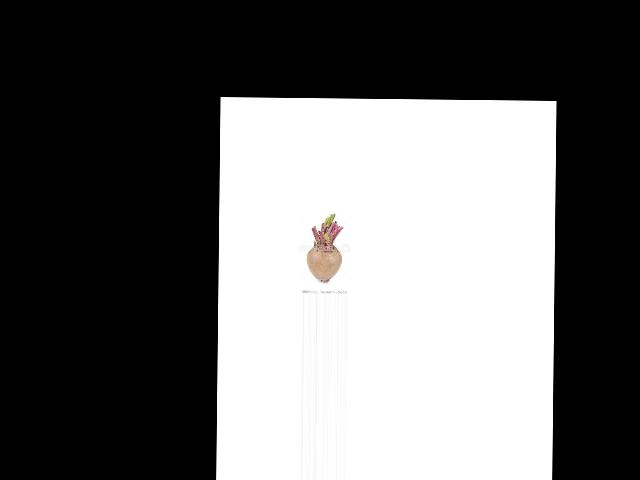beet: (305, 213, 343, 282)
